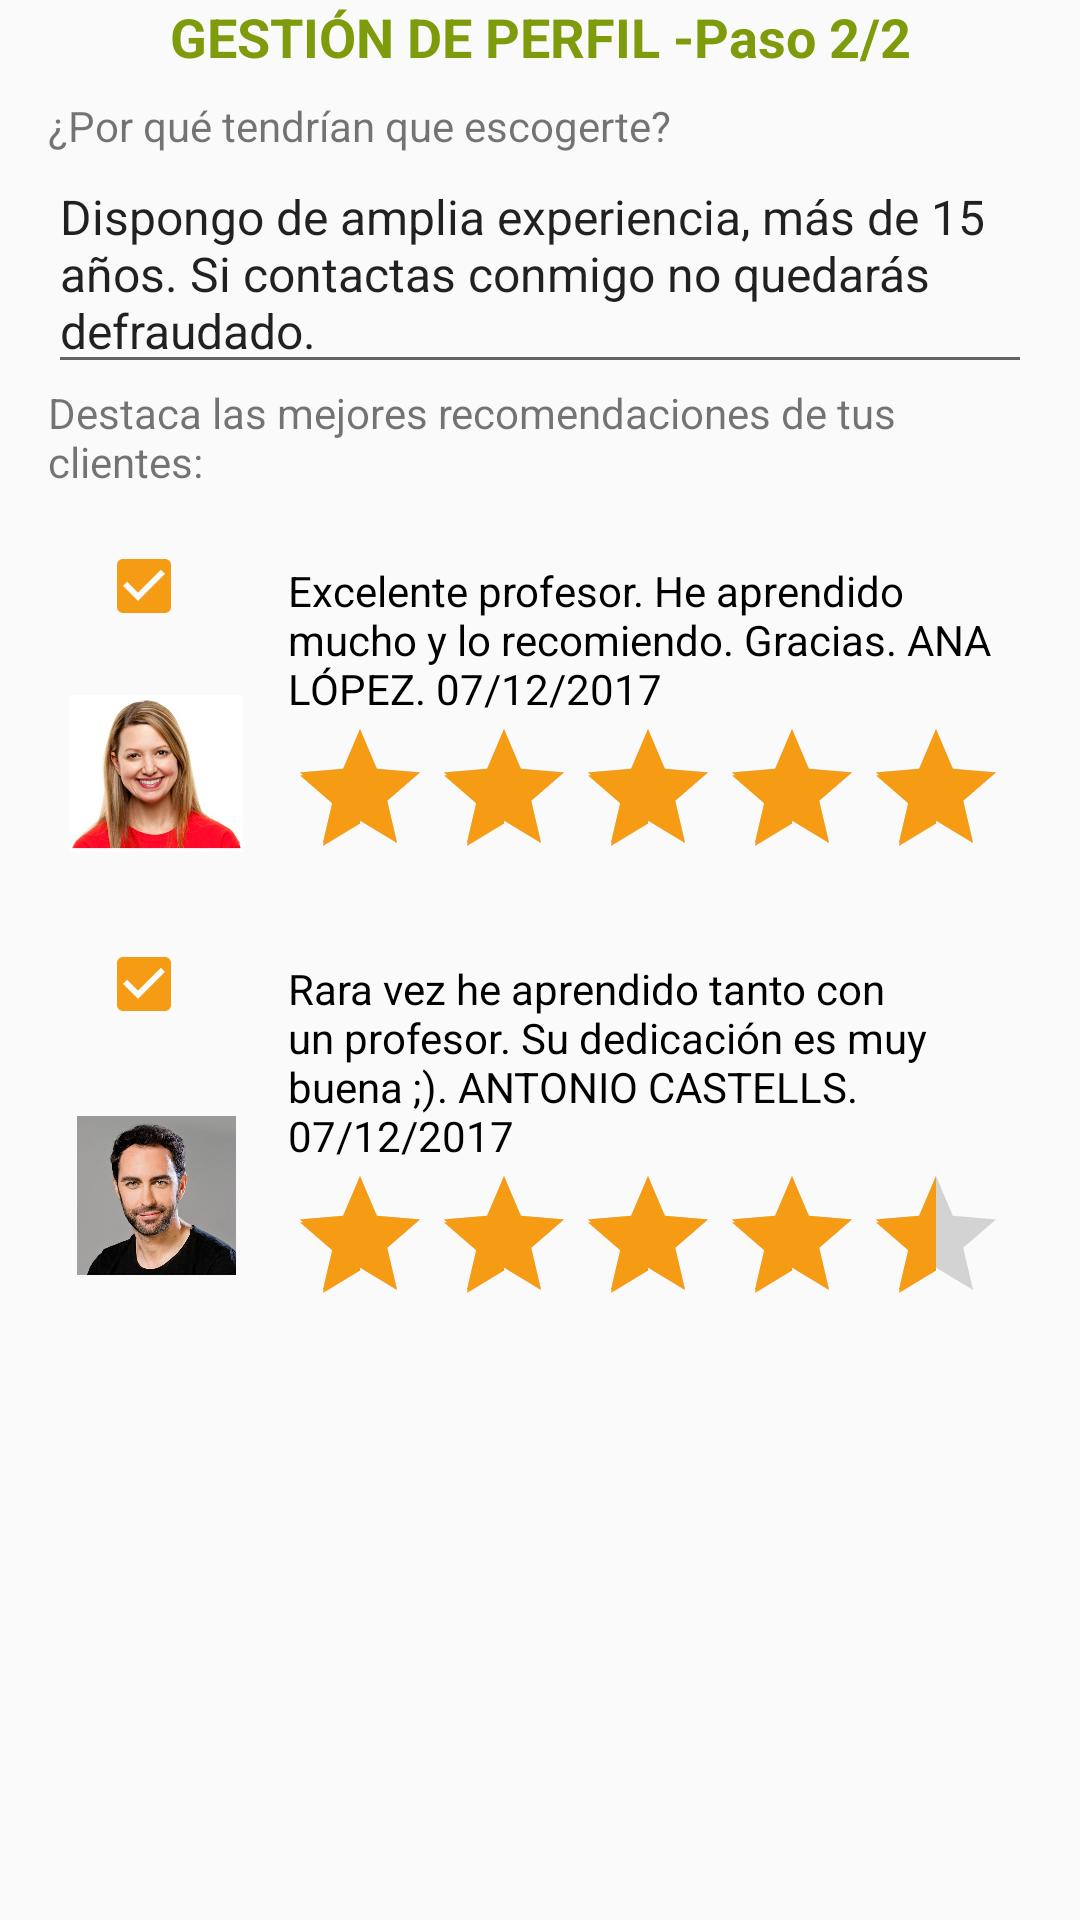

Where icons sit on this 1080 x 1920 app screen, as (left=x1, top=y1, right=x2, bottom=y2):
fotodemandante: (left=72, top=700, right=241, bottom=849), (left=77, top=1116, right=236, bottom=1275)
